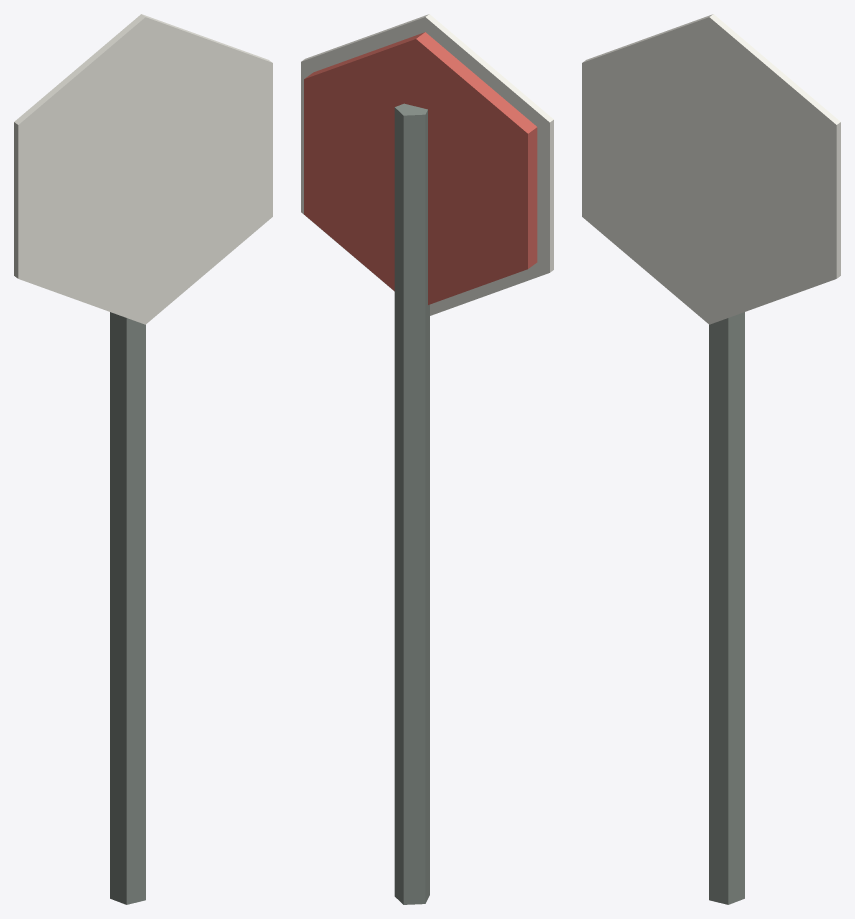
File: stop-sign-lod1.glb
The picture shows the model from 3 angles, left to right: view 1: azimuth 30°, elevation 25°; view 2: azimuth 150°, elevation 25°; view 3: azimuth 330°, elevation 25°; orthographic projection. The views are drawn at different scales.
Visible parts, largest first — view 1: sign_border, post; view 2: sign_face, post, sign_border; view 3: sign_border, post.
Boxes of the visible parts, x1=… form: sign_border: x1=14, y1=14, x2=272, y2=324; post: x1=110, y1=312, x2=145, y2=904; sign_face: x1=304, y1=32, x2=537, y2=304; post: x1=394, y1=103, x2=429, y2=904; sign_border: x1=301, y1=14, x2=553, y2=315; sign_border: x1=582, y1=14, x2=840, y2=324; post: x1=709, y1=312, x2=744, y2=904.
Bounding box in the file's own units: 0.6928 × 2.32 × 0.125.
